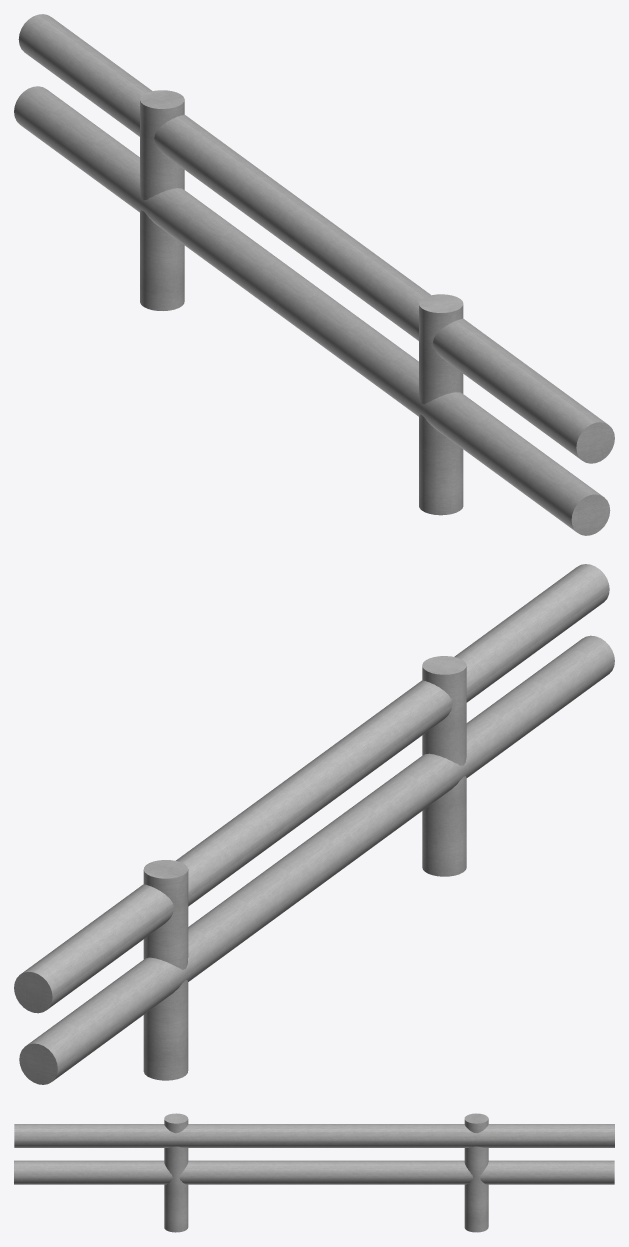
The model's file is WalkwayRail.fbx.
3 views of the same model, one above another, from view 1: azimuth 30°, elevation 25°; view 2: azimuth 150°, elevation 25°; view 3: azimuth 270°, elevation 25° (orthographic). The views are drawn at different scales.
Visible parts, largest first — view 1: Model; view 2: Model; view 3: Model.
Boxes of the visible parts, left/top/right/bottom form: Model: left=14, top=14, right=614, bottom=535; Model: left=14, top=564, right=614, bottom=1084; Model: left=14, top=1113, right=614, bottom=1232.
Size of the model in its own units: 0.9545 by 4 by 20.01.
